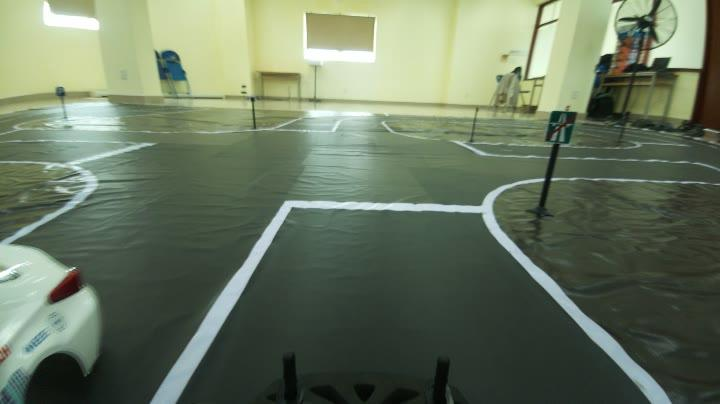highway_exit: (540, 107, 578, 153)
